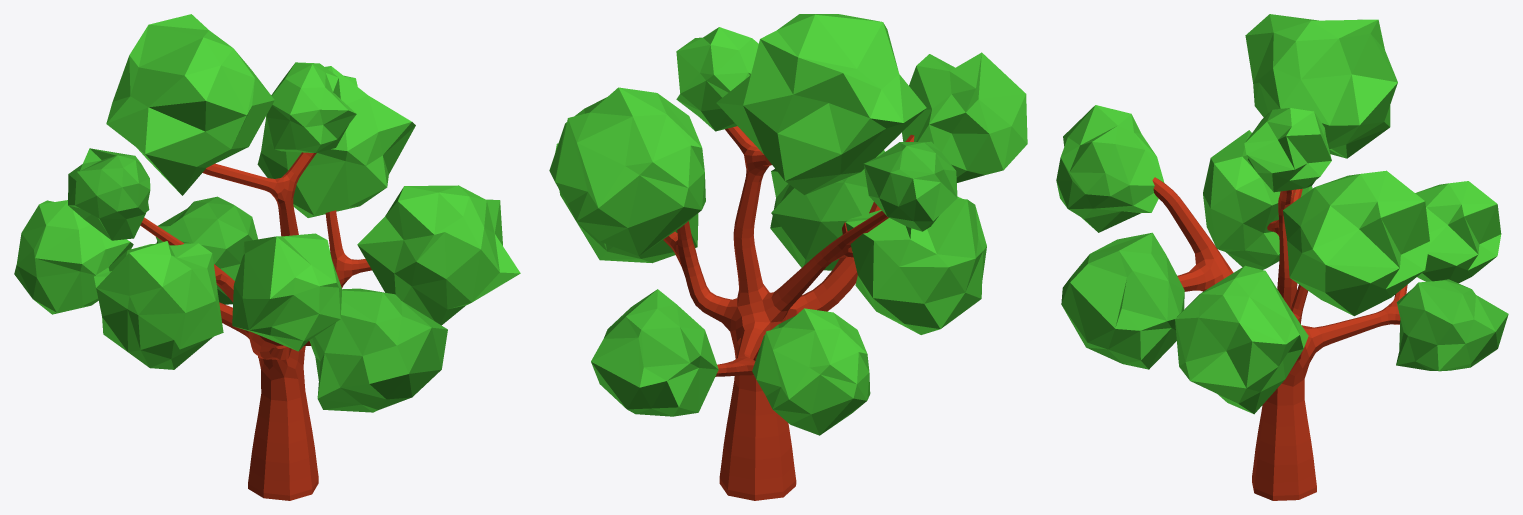
The model's file is single_tree.fbx.
3 renders of one model, left to right at view 1: azimuth 30°, elevation 25°; view 2: azimuth 150°, elevation 25°; view 3: azimuth 270°, elevation 25°, orthographic. The views are drawn at different scales.
Visible parts, largest first — view 1: tree_leaf1.001, tree_leaf2.001, tree_leaf3.001, tree_mid.001; view 2: tree_leaf2.001, tree_leaf1.001, tree_leaf3.001, tree_mid.001; view 3: tree_leaf1.001, tree_leaf2.001, tree_leaf3.001, tree_mid.001.
Boxes of the visible parts, box(x1,y1,x2,y2) form: tree_leaf1.001: box(106, 14, 520, 351); tree_leaf2.001: box(14, 62, 415, 369); tree_leaf3.001: box(68, 148, 447, 412); tree_mid.001: box(140, 152, 371, 500); tree_leaf2.001: box(549, 27, 986, 435); tree_leaf1.001: box(555, 14, 1027, 263); tree_leaf3.001: box(591, 141, 957, 416); tree_mid.001: box(663, 126, 914, 500); tree_leaf1.001: box(1056, 14, 1397, 414); tree_leaf2.001: box(1203, 108, 1501, 316); tree_leaf3.001: box(1061, 232, 1508, 371); tree_mid.001: box(1152, 177, 1407, 500).
Bounding box in the file's own units: 5.46 × 6.01 × 5.65.
